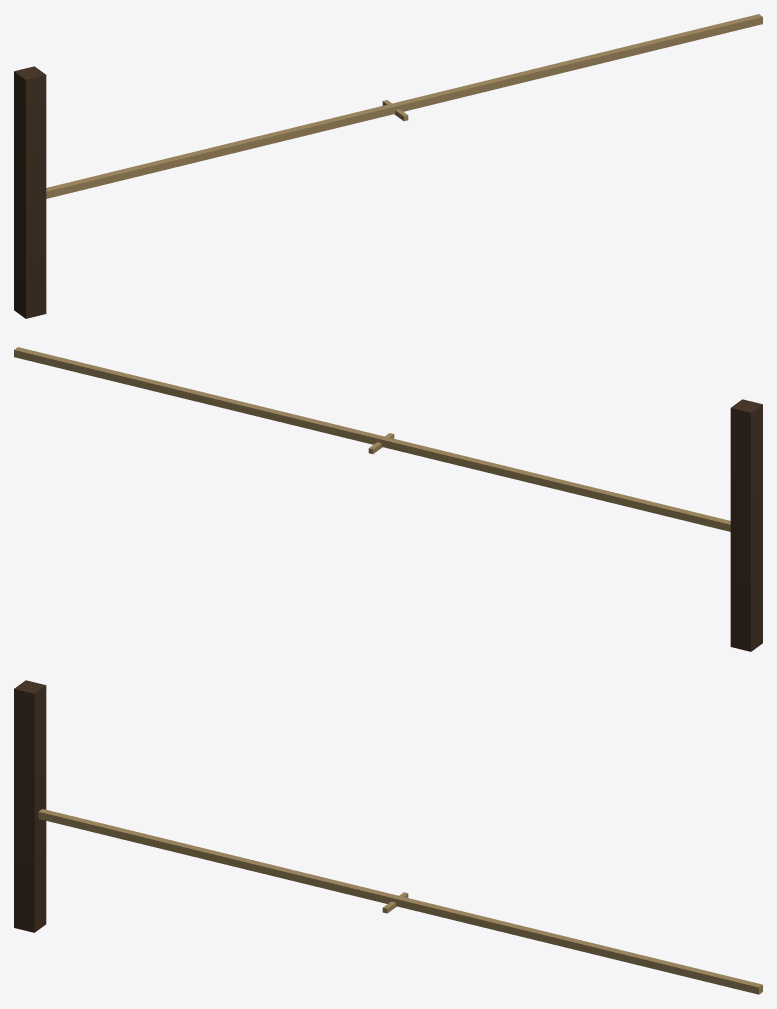
File: caral_survey_stake_lod0.glb
The picture shows the model from 3 angles, top to bottom: view 1: azimuth 30°, elevation 25°; view 2: azimuth 150°, elevation 25°; view 3: azimuth 330°, elevation 25°; orthographic projection.
Visible parts, largest first — view 1: GEO-Arch_survey_stake_LOD0; view 2: GEO-Arch_survey_stake_LOD0; view 3: GEO-Arch_survey_stake_LOD0.
Boxes of the visible parts, box(x1,y1,x2,y2) form: GEO-Arch_survey_stake_LOD0: box(14, 14, 762, 318); GEO-Arch_survey_stake_LOD0: box(14, 347, 762, 651); GEO-Arch_survey_stake_LOD0: box(14, 680, 762, 994).
Bounding box in the file's own units: 3.25 × 0.9999 × 0.16.
